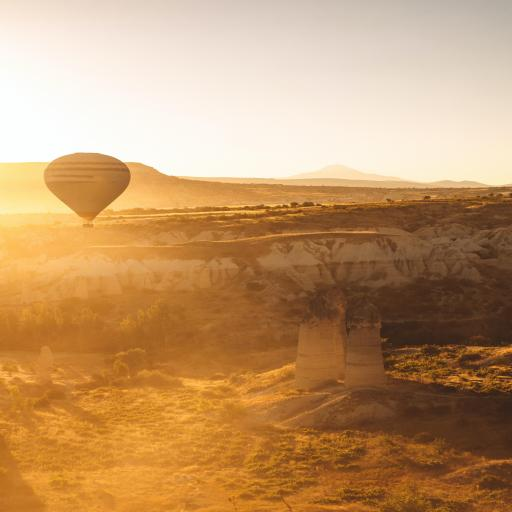hot air ballon: (43, 153, 131, 228)
